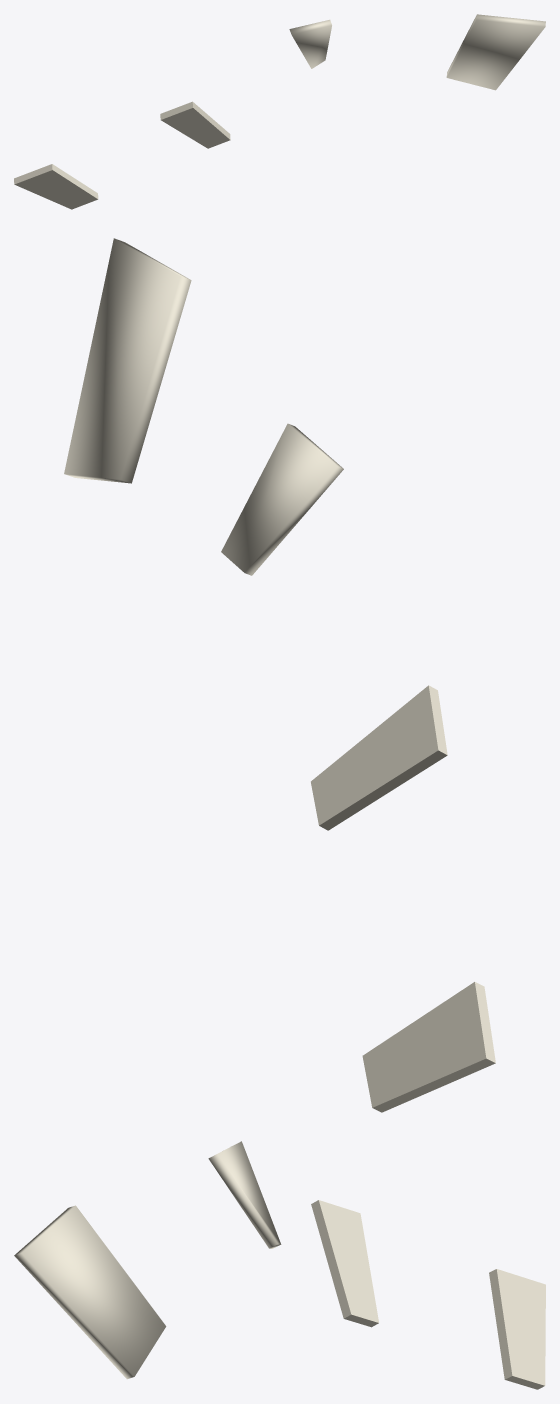
3 renders of one model, top to bottom at view 1: azimuth 30°, elevation 25°; view 2: azimuth 150°, elevation 25°; view 3: azimuth 270°, elevation 25°, orthographic. The views are drawn at different scales.
Visible parts, largest first — view 1: ZA_2daffab369da1174; view 2: ZA_2daffab369da1174; view 3: ZA_2daffab369da1174.
Boxes of the visible parts, bbox=[...] form: ZA_2daffab369da1174: bbox=[14, 14, 545, 209]; ZA_2daffab369da1174: bbox=[64, 238, 495, 1112]; ZA_2daffab369da1174: bbox=[14, 1141, 545, 1389].
Size of the model in its own units: 0.0297 by 0.0192 by 0.025.
